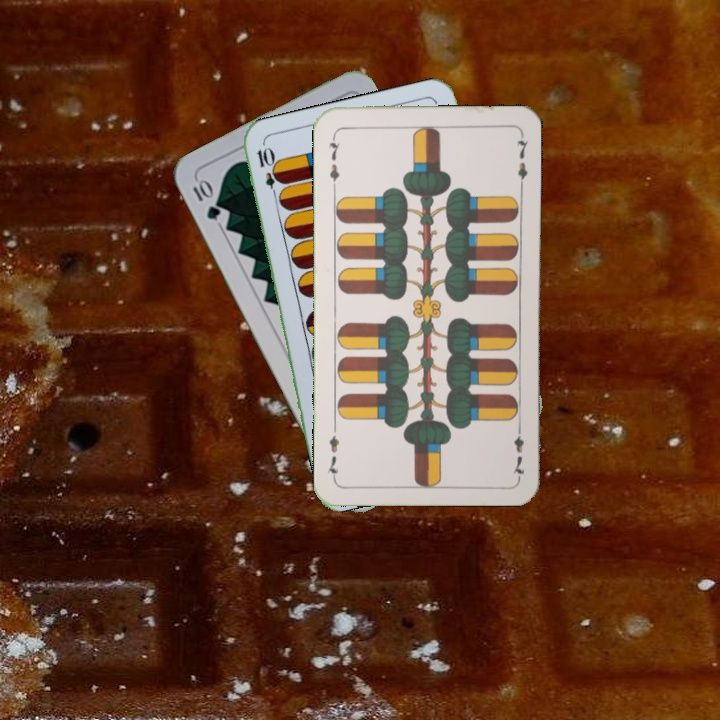E10: (253, 143, 282, 202)
E7: (325, 131, 343, 190), (509, 420, 527, 479)
G10: (188, 175, 223, 223)
